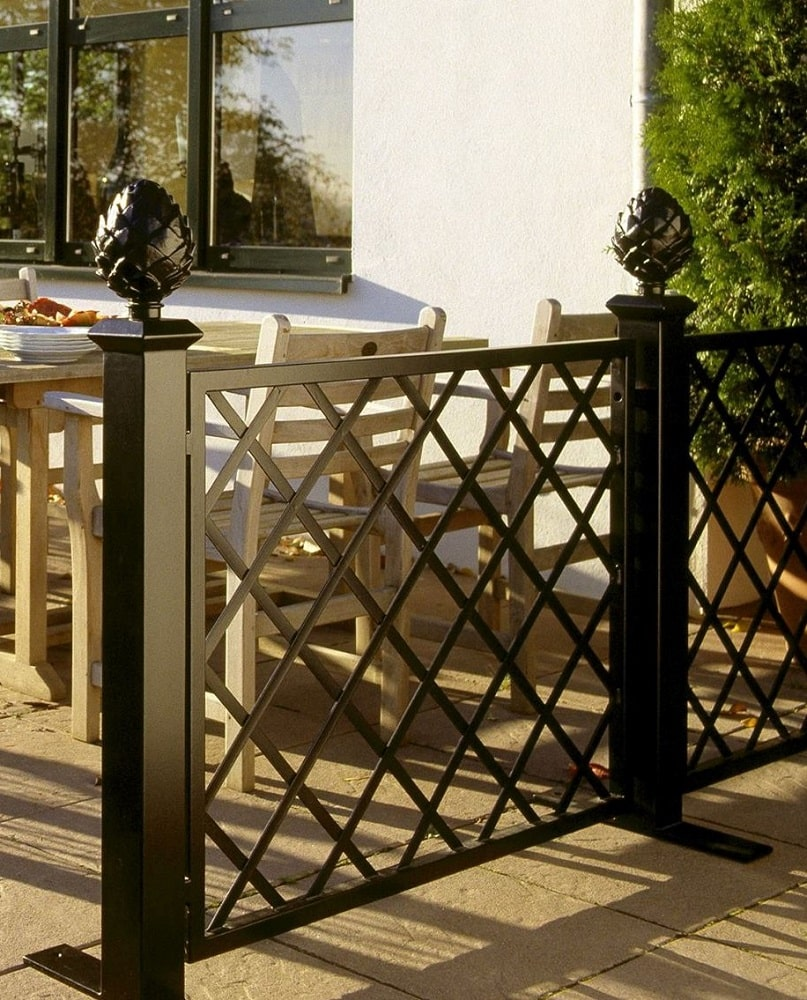Fence: (117, 337, 807, 994)
